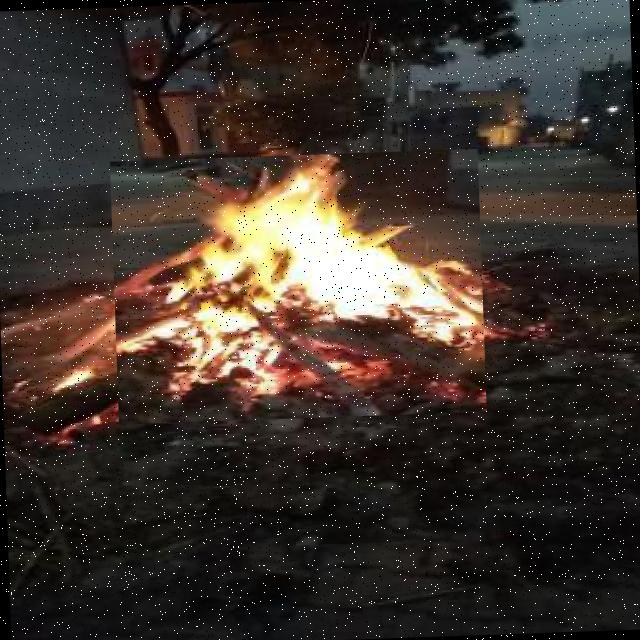fire: (110, 148, 487, 424)
